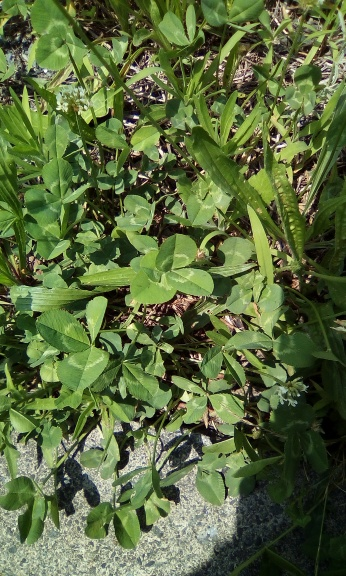4leaf: (129, 232, 215, 305)
